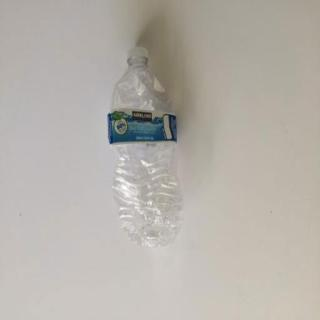Plastic-bottle: (106, 47, 189, 251)
